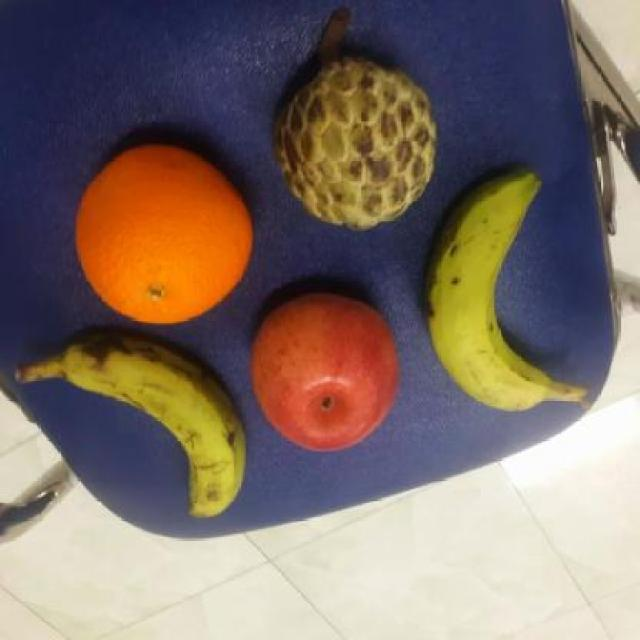apple: (246, 292, 403, 456)
banana: (59, 326, 250, 523), (422, 170, 566, 415)
oren: (71, 143, 257, 329)
sugar apple: (270, 60, 441, 232)
